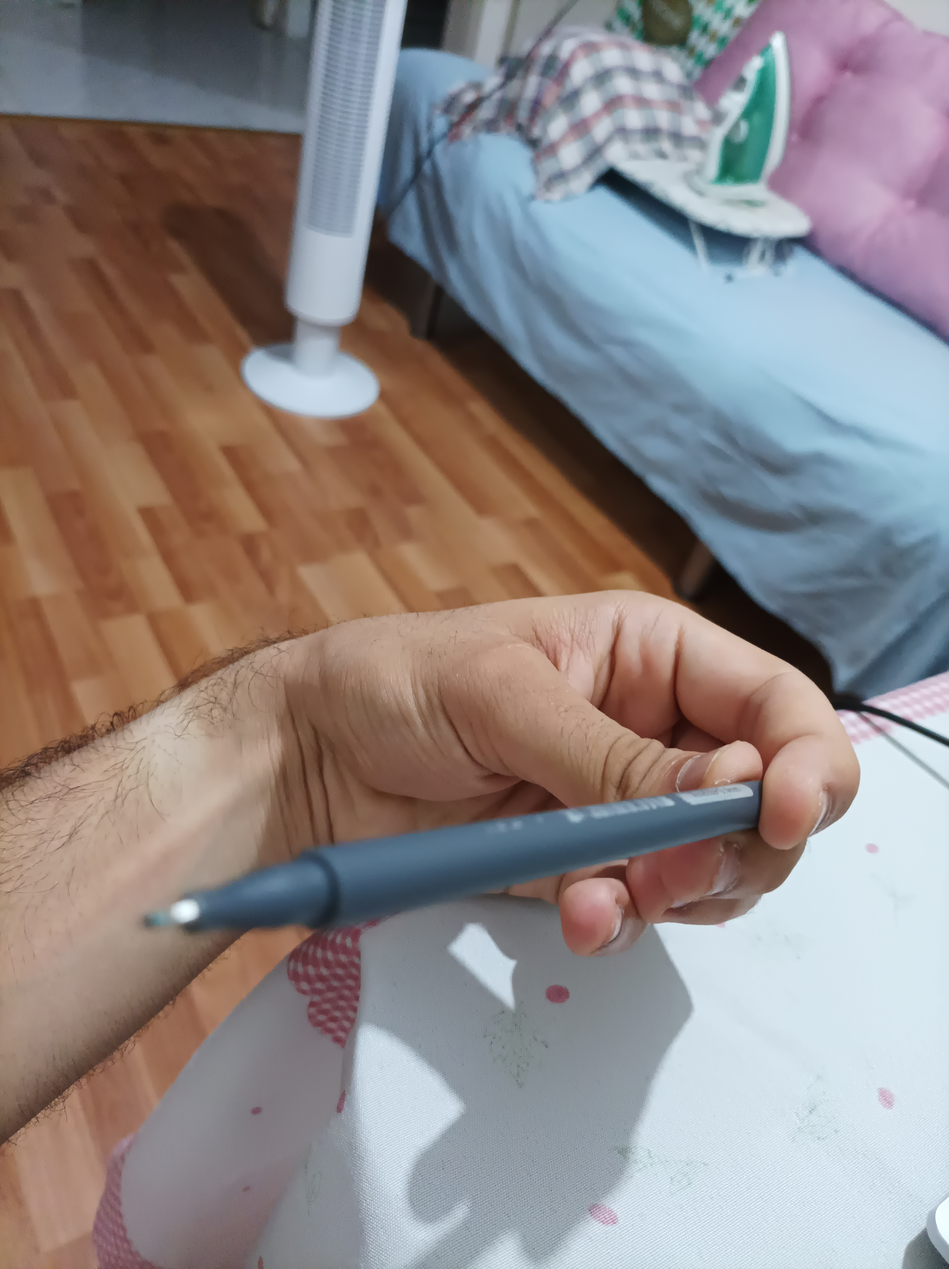plastic: (141, 755, 768, 980)
